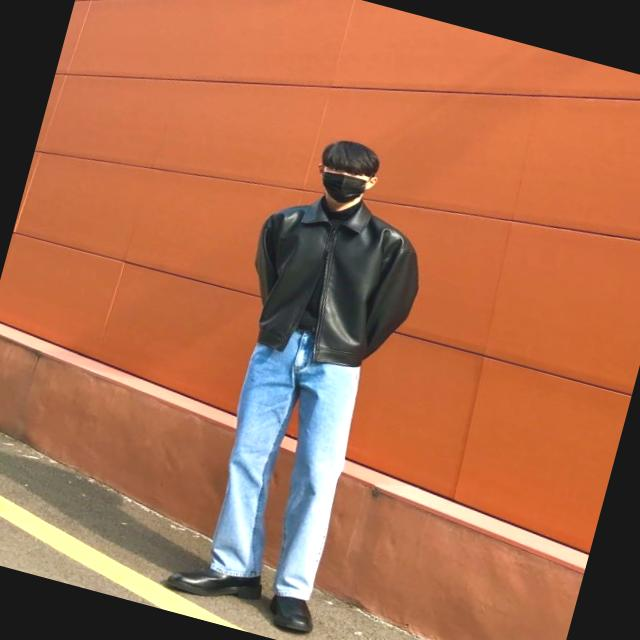denimpants: (195, 320, 378, 604)
jacket: (233, 180, 435, 382)
